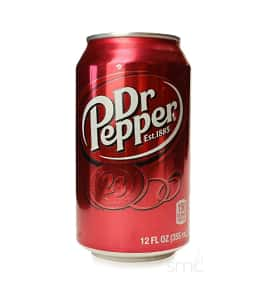can: (71, 28, 195, 268)
